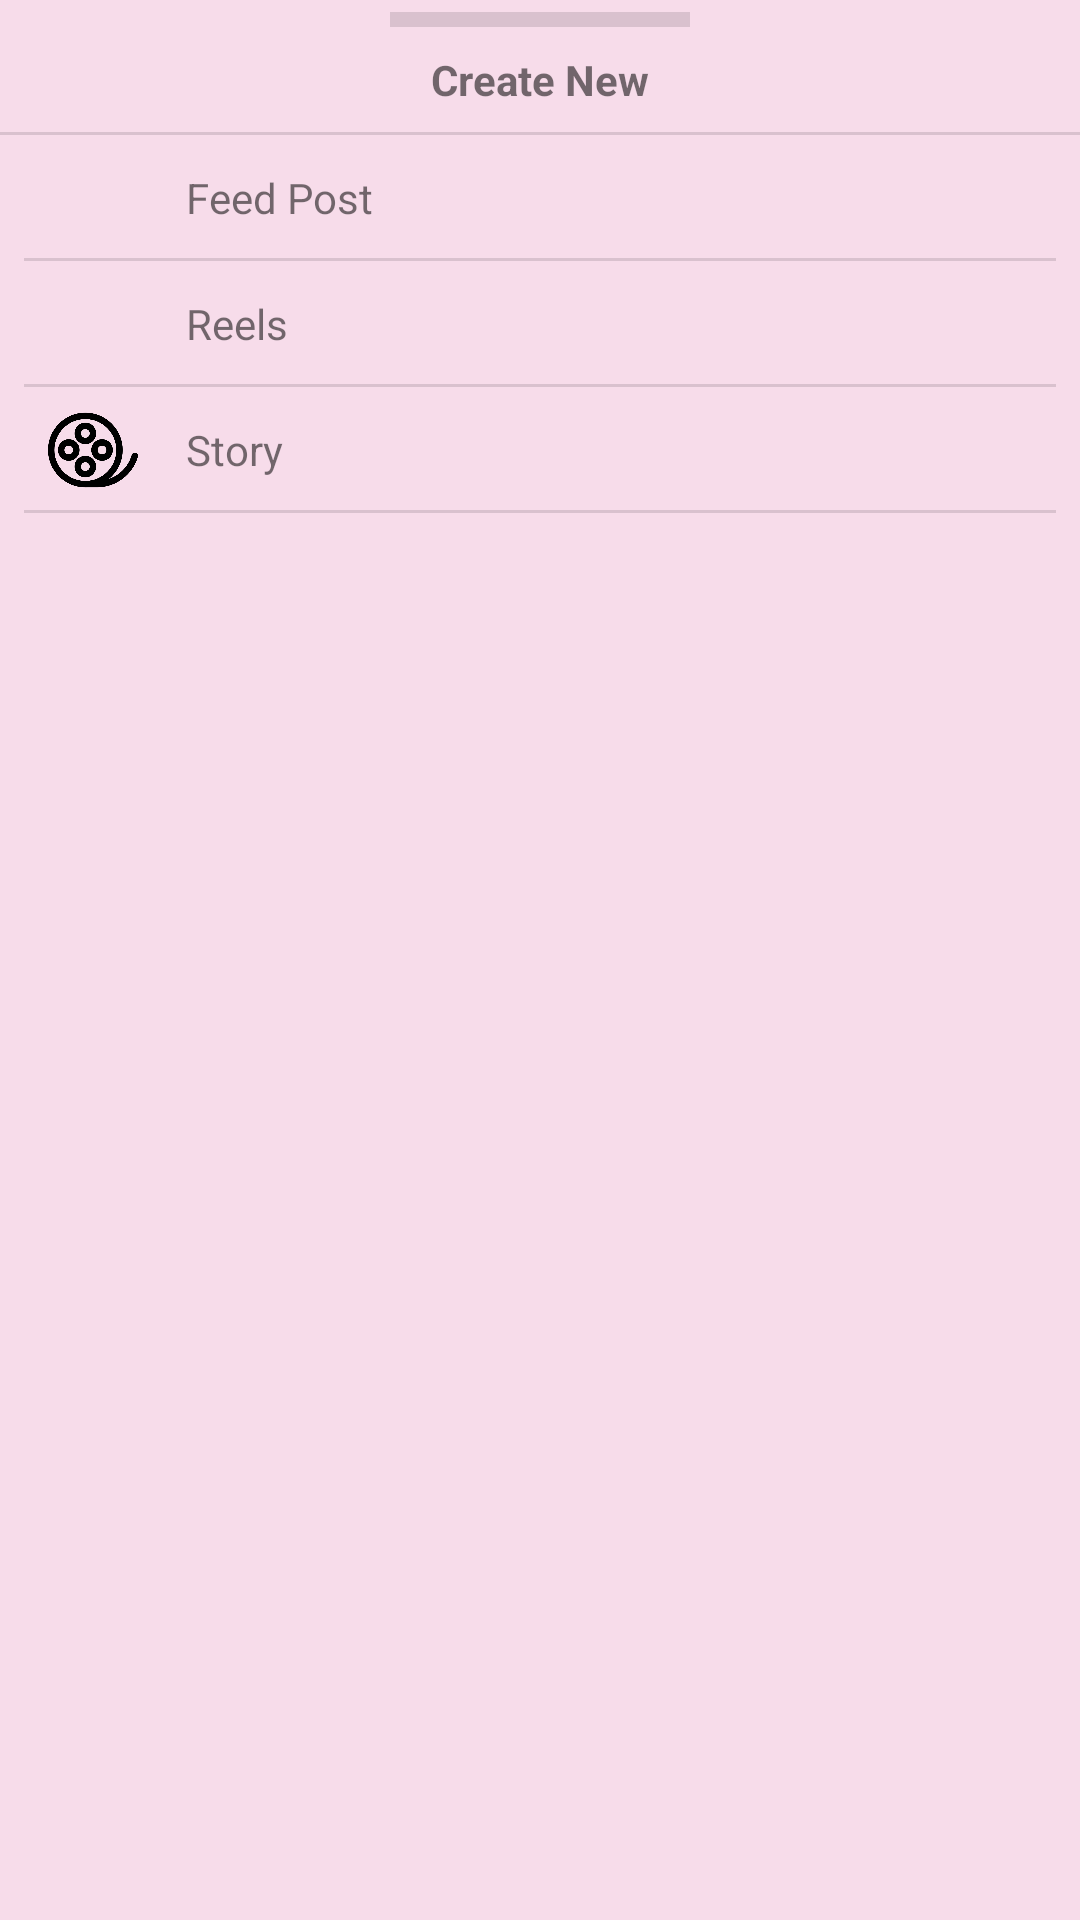

Screen size 1080px×1920px. Icon name, then its box in pixels as (x1, y1, x2, y2):
film reel: (48, 413, 138, 488)
